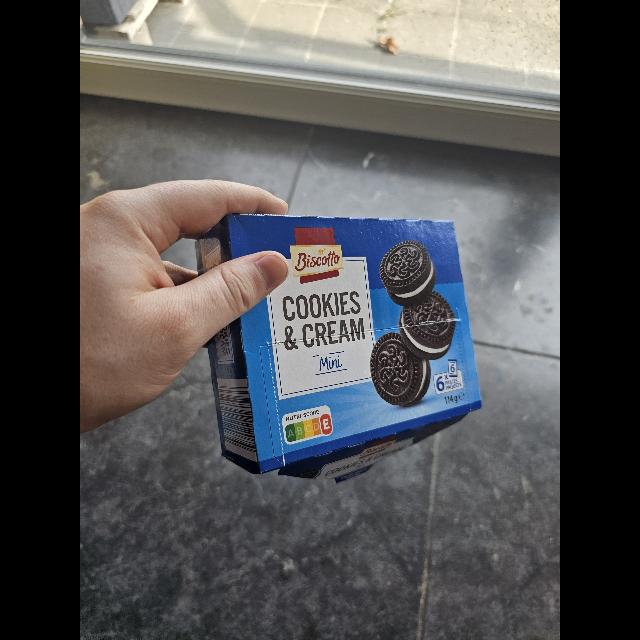Cardboard: (190, 192, 488, 484)
